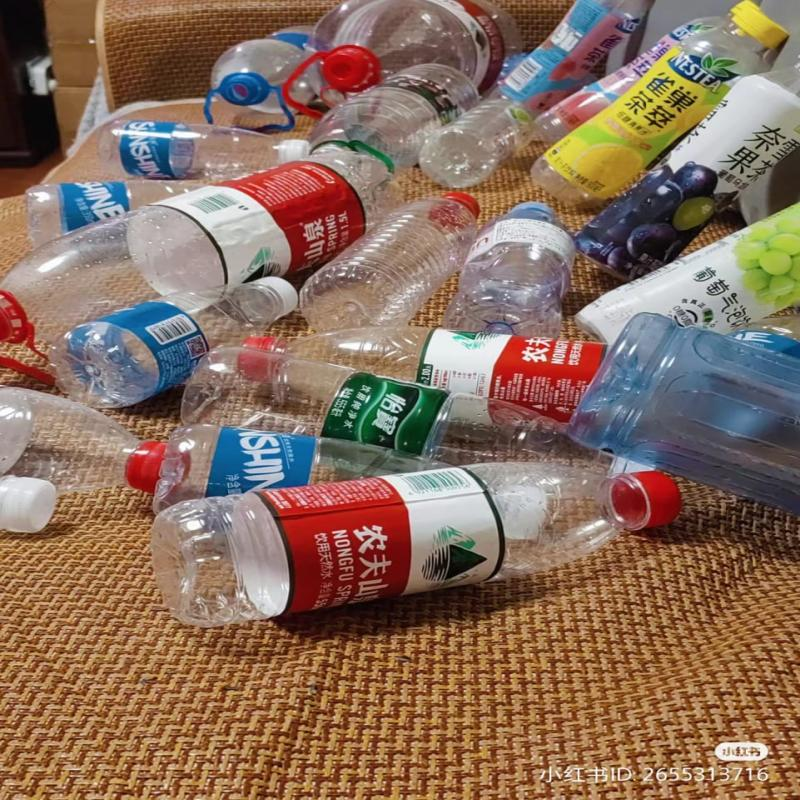botella: (151, 463, 696, 627), (0, 156, 375, 348), (525, 0, 792, 193), (572, 307, 800, 513), (576, 76, 800, 268), (578, 187, 800, 370), (247, 333, 611, 438), (310, 183, 488, 354), (72, 279, 299, 408), (125, 427, 458, 504), (317, 64, 487, 186), (462, 196, 570, 370), (318, 0, 507, 94), (509, 2, 654, 118), (201, 24, 342, 131), (112, 118, 306, 183), (30, 178, 223, 241), (424, 96, 538, 187)
